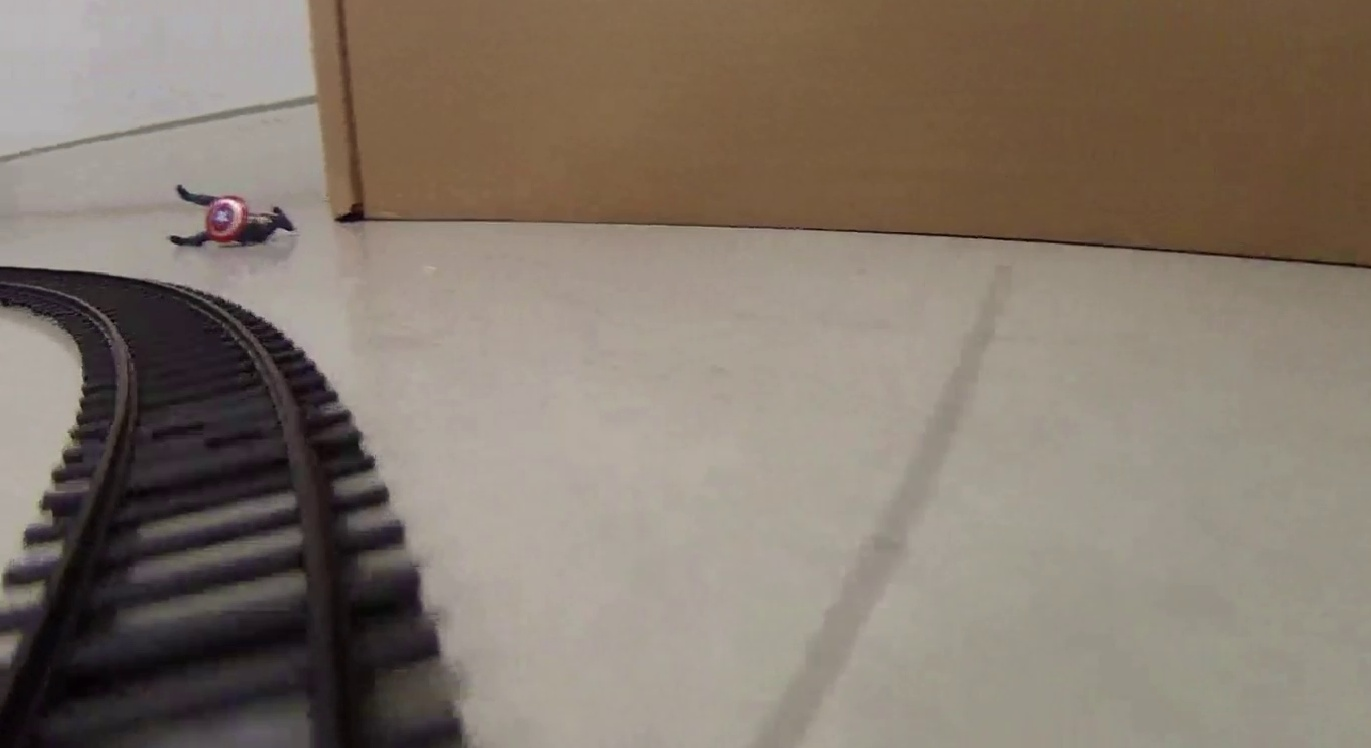people: (168, 182, 297, 247)
